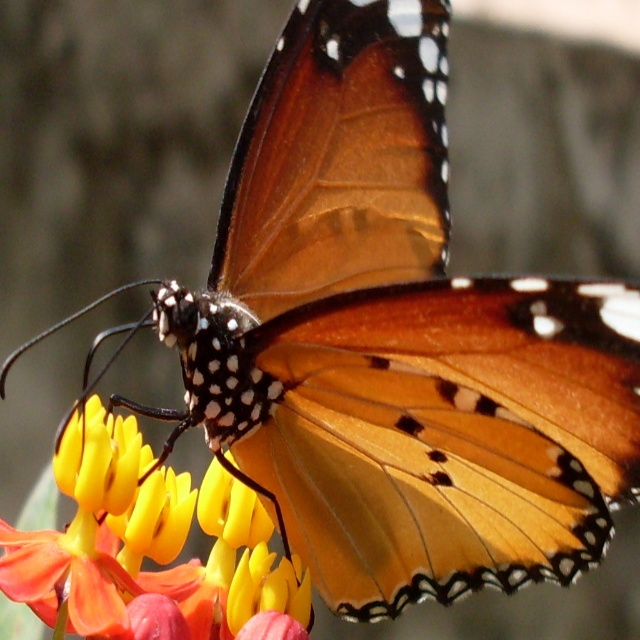Butterfly: (44, 28, 559, 615)
